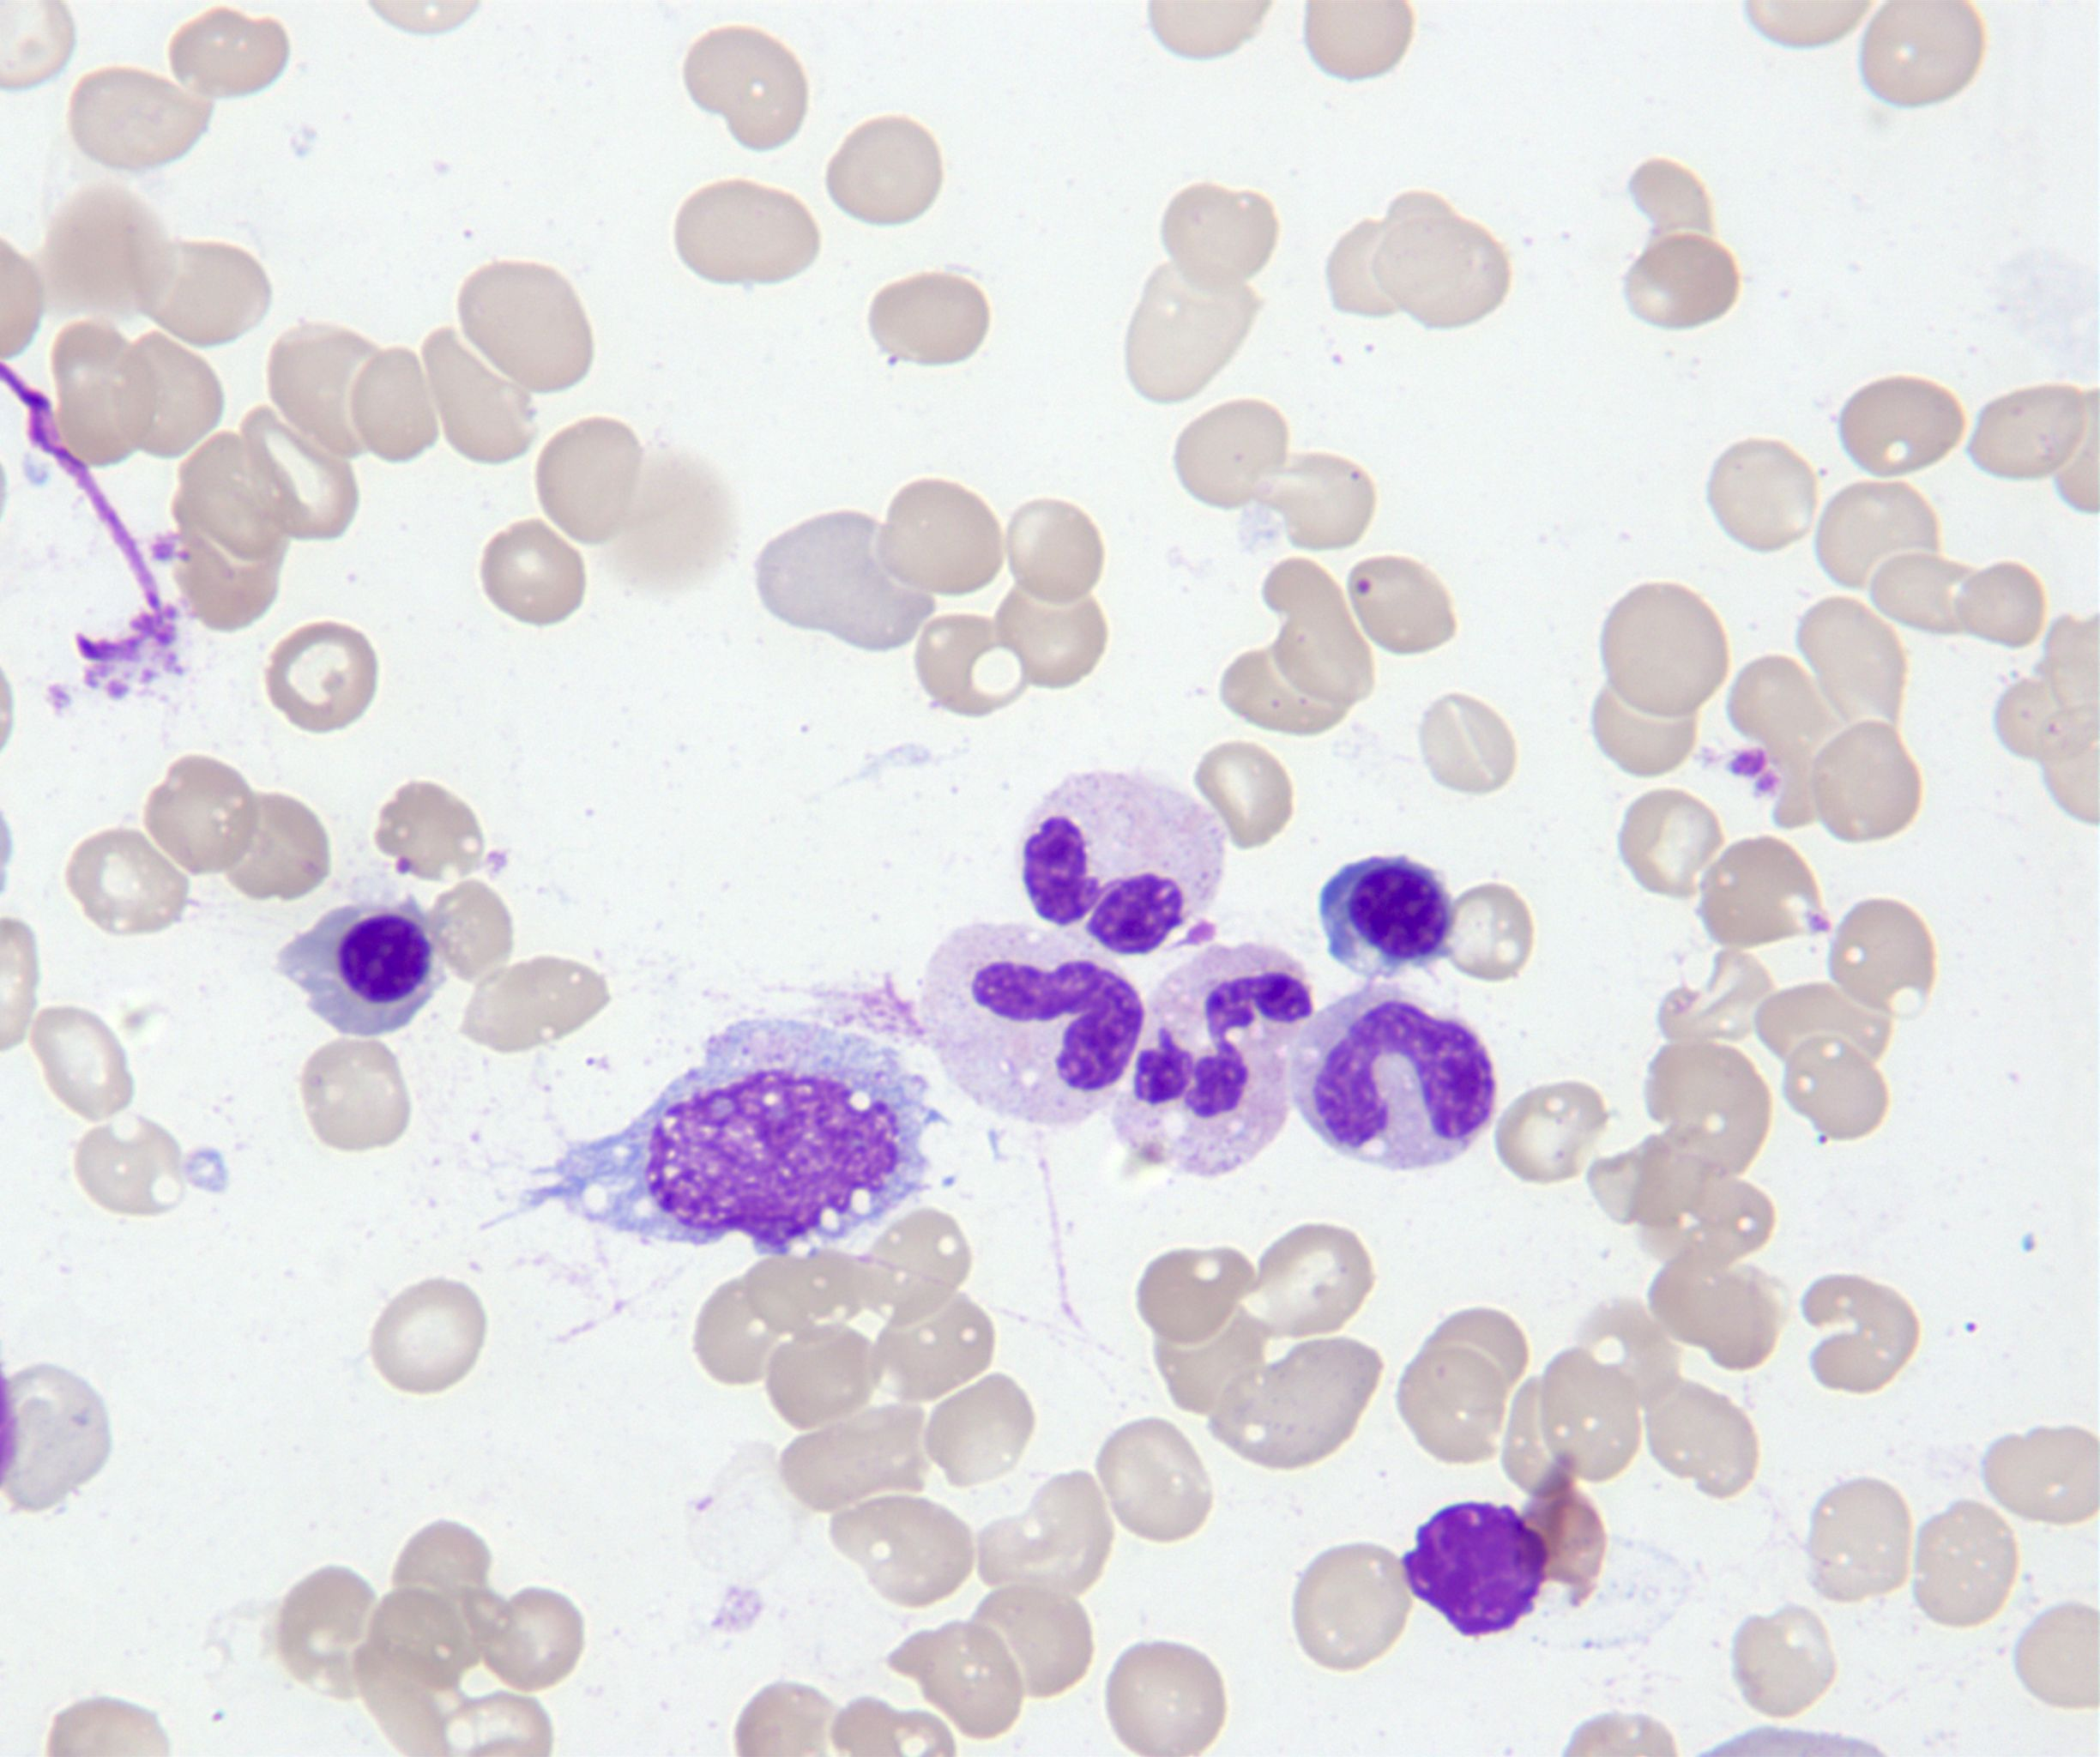24: (276, 893, 447, 1036), (1320, 855, 1455, 975)
5: (923, 921, 1142, 1125), (1289, 986, 1493, 1169)
6: (1111, 944, 1312, 1178), (1017, 771, 1224, 958)
x: (522, 1019, 945, 1256), (1402, 1502, 1547, 1635)
